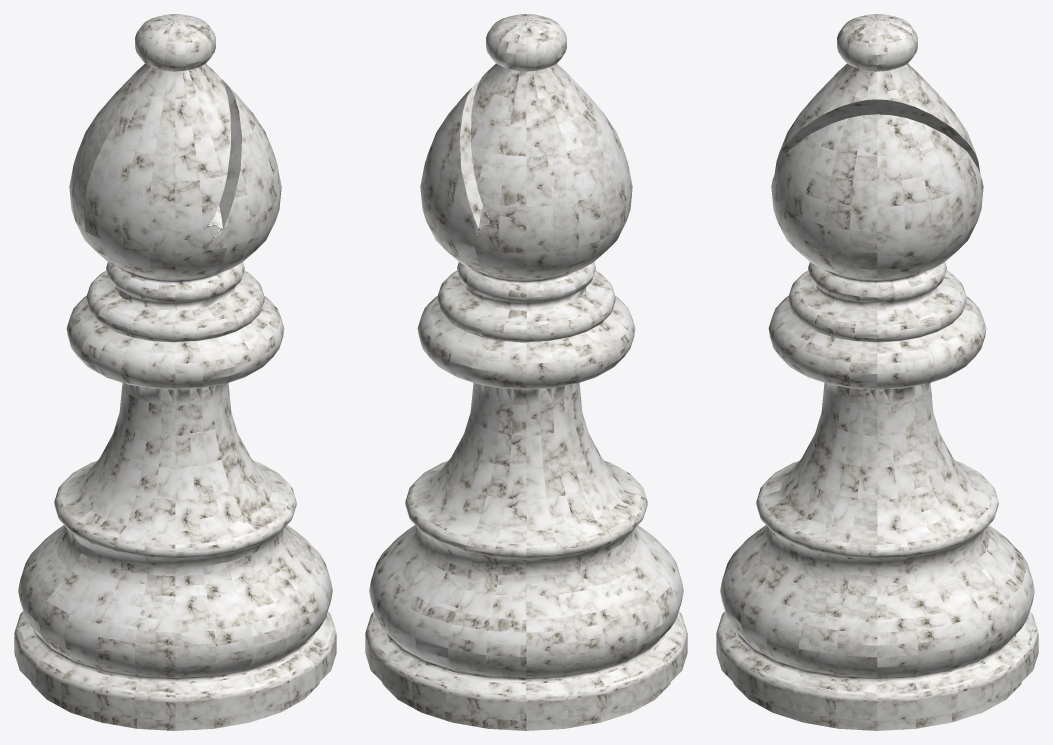
Rendered from white_bishop.fbx.
3 renders of one model, left to right at view 1: azimuth 30°, elevation 25°; view 2: azimuth 150°, elevation 25°; view 3: azimuth 270°, elevation 25°, orthographic.
Visible parts, largest first — view 1: Model; view 2: Model; view 3: Model.
Boxes of the visible parts, x1=… form: Model: x1=14, y1=14, x2=336, y2=730; Model: x1=365, y1=14, x2=687, y2=730; Model: x1=716, y1=14, x2=1038, y2=730.
Bounding box in the file's own units: 12.26 × 27.15 × 12.26.
1 material, 1 textured.
